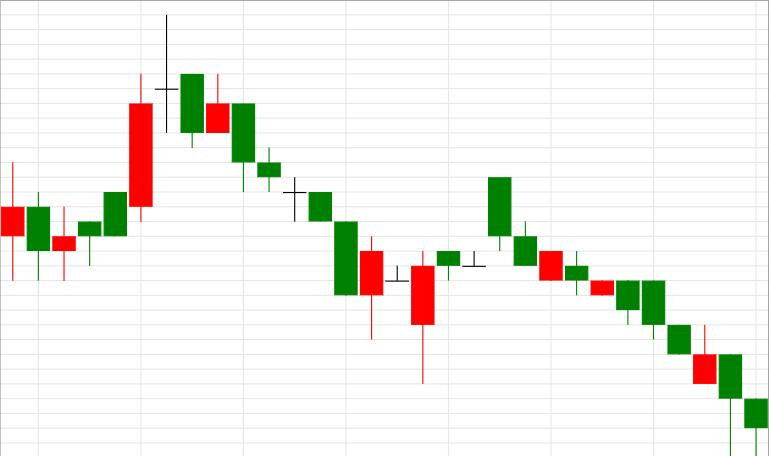hammer_rise: (488, 177, 742, 456)
